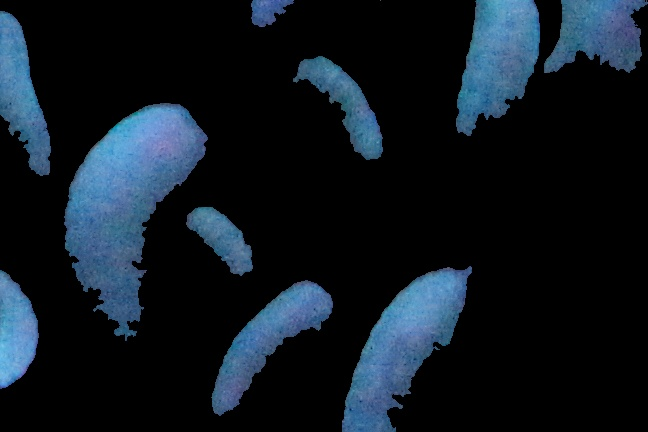larvae: (67, 102, 216, 362), (337, 262, 476, 432), (209, 280, 340, 420), (282, 47, 389, 167), (458, 1, 542, 143), (1, 11, 58, 191), (182, 209, 262, 284), (1, 258, 40, 391)
